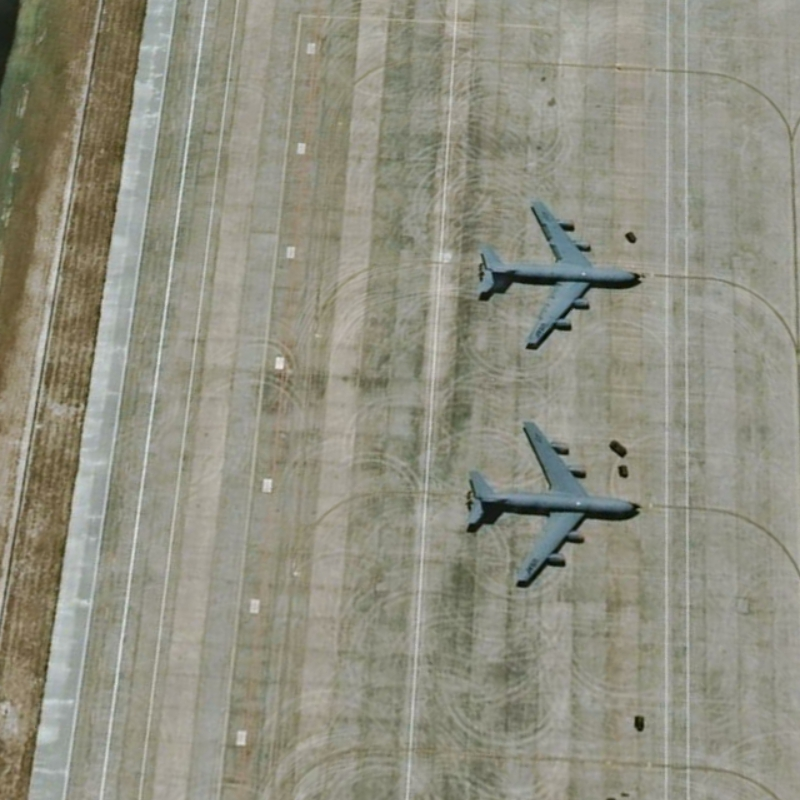A14: (462, 417, 647, 591), (466, 193, 651, 358)
